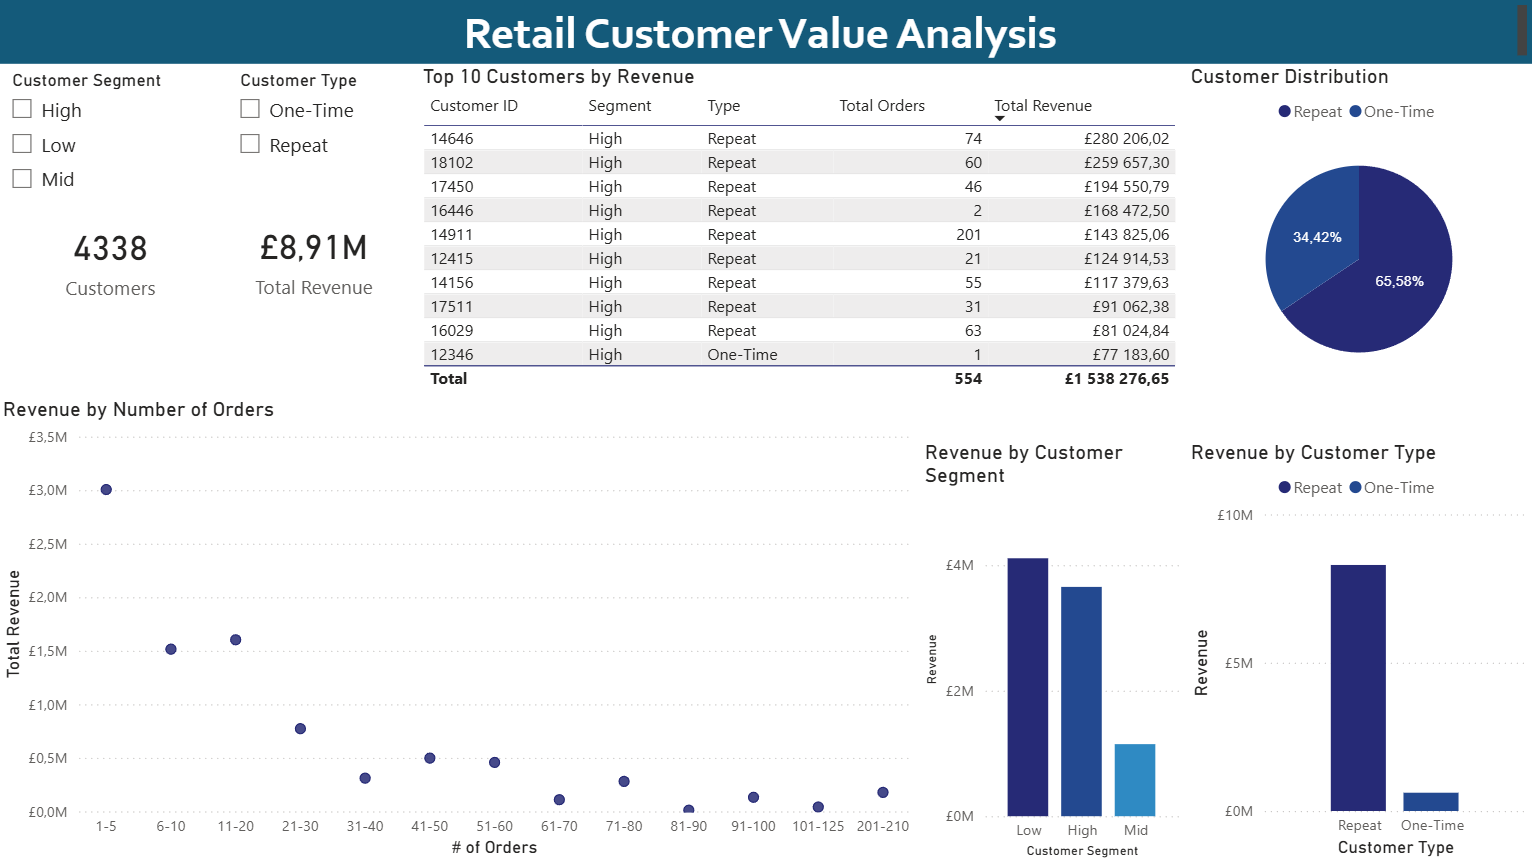

The page's visual inventory and layout, read from the dashboard file:
{"tool":"powerbi","page":{"name":"Customer Value Analysis","canvas":[1280,720],"ordinal":0},"visuals":[{"type":"textbox","box":[0,0,1280,54.3],"z":0},{"type":"columnChart","title":"Revenue by Customer Segment","fields":{"Category":["customer_info.Customer Segment"],"Y":["Sum(customer_info.Total Revenue)"],"Series":["customer_info.Customer Segment"]},"box":[768.3,367.5,221.7,352.5],"z":1000},{"type":"pieChart","title":"Customer Distribution","fields":{"Category":["customer_info.Customer Type"],"Y":["CountNonNull(customer_info.Customer Type)"]},"box":[990,54.2,290,277.5],"z":2000},{"type":"card","fields":{"Values":["Count(customer_info.CustomerID)"]},"box":[0,174.2,189.2,83.3],"z":3000},{"type":"card","fields":{"Values":["Sum(customer_info.Total Revenue)"]},"box":[189.2,173.3,150,84.2],"z":4000},{"type":"columnChart","title":"Revenue by Customer Type","fields":{"Category":["customer_info.Customer Type"],"Y":["Sum(customer_info.Total Revenue)"],"Series":["customer_info.Customer Type"]},"box":[990,367.5,290,352.5],"z":5000},{"type":"scatterChart","title":"Revenue by Number of Orders","fields":{"X":["customer_info.Order Brackets"],"Y":["Sum(customer_info.Total Revenue)"]},"box":[0,331.7,768.3,388.3],"z":6000},{"type":"slicer","fields":{"Values":["customer_info.Customer Segment"]},"box":[0,54.3,189.8,119.9],"z":7000},{"type":"slicer","fields":{"Values":["customer_info.Customer Type"]},"box":[190,54.2,160,119.2],"z":8000},{"type":"tableEx","title":"Top 10 Customers by Revenue","fields":{"Values":["customer_info.CustomerID","customer_info.Customer Segment","customer_info.Customer Type","Sum(customer_info.Total Orders)","Sum(customer_info.Total Revenue)"]},"box":[350,54.2,640,277.5],"z":9000}]}

Visuals, with their boxes in screenshot pixels (x1, y1, x2, y2), scaled from the page's 1280x720 canvas onto the 1532x860 screenshot:
textbox: select_region(0, 0, 1531, 65)
"Revenue by Customer Segment" columnChart: select_region(920, 439, 1185, 859)
"Customer Distribution" pieChart: select_region(1185, 65, 1531, 396)
card - Count(customer_info.CustomerID): select_region(0, 208, 226, 308)
card - Sum(customer_info.Total Revenue): select_region(226, 207, 406, 308)
"Revenue by Customer Type" columnChart: select_region(1185, 439, 1531, 859)
"Revenue by Number of Orders" scatterChart: select_region(0, 396, 920, 859)
slicer - customer_info.Customer Segment: select_region(0, 65, 227, 208)
slicer - customer_info.Customer Type: select_region(227, 65, 419, 207)
"Top 10 Customers by Revenue" tableEx: select_region(419, 65, 1185, 396)
